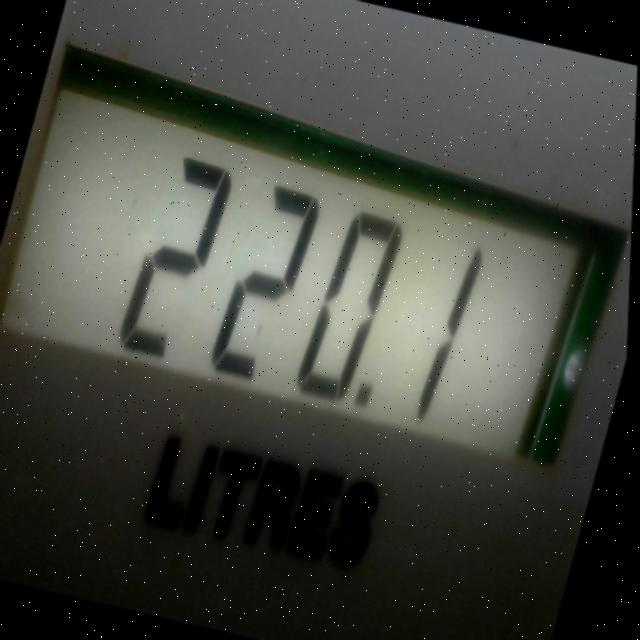.: (350, 372, 389, 427)
0: (292, 210, 408, 408)
1: (415, 240, 494, 430)
2: (215, 177, 327, 384), (121, 160, 233, 360)
